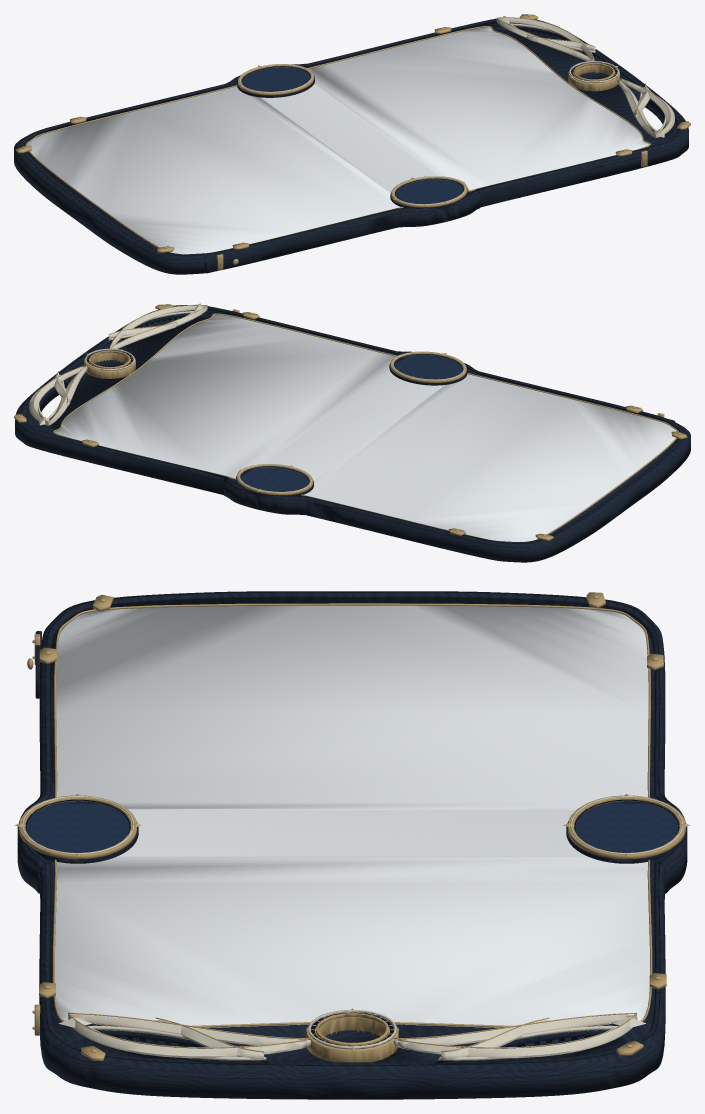
Rendered from board-low.glb.
3 renders of one model, top to bottom at view 1: azimuth 30°, elevation 25°; view 2: azimuth 150°, elevation 25°; view 3: azimuth 270°, elevation 25°, orthographic. The views are drawn at different scales.
Parts seen in each view (by area): view 1: lod1_02_IvoryWeave, lod1_01_InkWood, lod1_04_ChampagneBrass, lod1_05_WarmSilver, lod1_03_NavyJacquard, lod1_06_RecessInk; view 2: lod1_02_IvoryWeave, lod1_01_InkWood, lod1_04_ChampagneBrass, lod1_05_WarmSilver, lod1_03_NavyJacquard, lod1_06_RecessInk; view 3: lod1_02_IvoryWeave, lod1_01_InkWood, lod1_04_ChampagneBrass, lod1_05_WarmSilver, lod1_03_NavyJacquard, lod1_06_RecessInk.
Boxes of the visible parts, x1,y1,x2,y2 form: lod1_02_IvoryWeave: [26, 27, 649, 254]; lod1_01_InkWood: [14, 19, 688, 274]; lod1_04_ChampagneBrass: [15, 14, 690, 270]; lod1_05_WarmSilver: [239, 17, 674, 204]; lod1_03_NavyJacquard: [242, 67, 463, 203]; lod1_06_RecessInk: [20, 18, 682, 255]; lod1_02_IvoryWeave: [54, 314, 676, 541]; lod1_01_InkWood: [15, 305, 690, 562]; lod1_04_ChampagneBrass: [14, 303, 687, 540]; lod1_05_WarmSilver: [29, 305, 465, 492]; lod1_03_NavyJacquard: [241, 354, 462, 491]; lod1_06_RecessInk: [21, 305, 684, 543]; lod1_02_IvoryWeave: [55, 605, 649, 1027]; lod1_01_InkWood: [17, 591, 687, 1099]; lod1_04_ChampagneBrass: [14, 592, 690, 1062]; lod1_05_WarmSilver: [22, 796, 682, 1060]; lod1_03_NavyJacquard: [26, 801, 678, 852]; lod1_06_RecessInk: [25, 591, 679, 1065].
Bounding box in the file's own units: 1.6 × 0.069 × 0.95.
6 materials, 3 textured.
